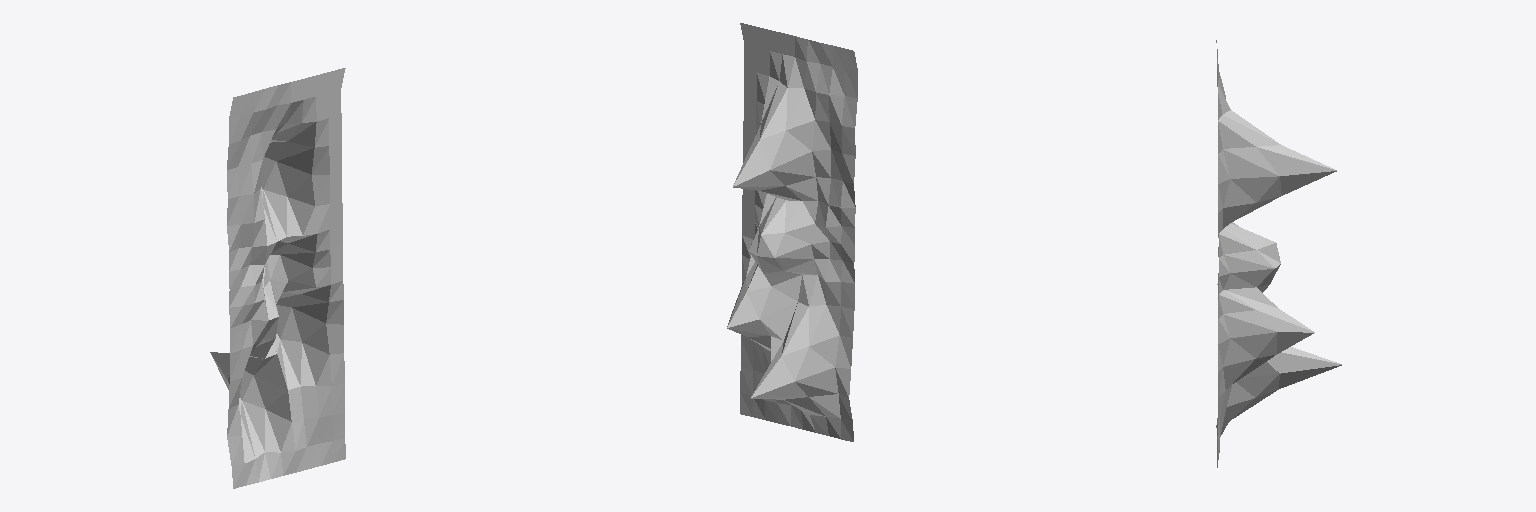
File: mountain.obj
3 views of the same model, side by side, from view 1: azimuth 30°, elevation 25°; view 2: azimuth 150°, elevation 25°; view 3: azimuth 270°, elevation 25° (orthographic).
Visible parts, largest first — view 1: Sahne_Plane; view 2: Sahne_Plane; view 3: Sahne_Plane.
Boxes of the visible parts, <box> form: Sahne_Plane: <box>210,68,345,488</box>; Sahne_Plane: <box>727,23,857,441</box>; Sahne_Plane: <box>1216,40,1341,467</box>.
Bounding box in the file's own units: 3.13 × 9.99 × 2.93.